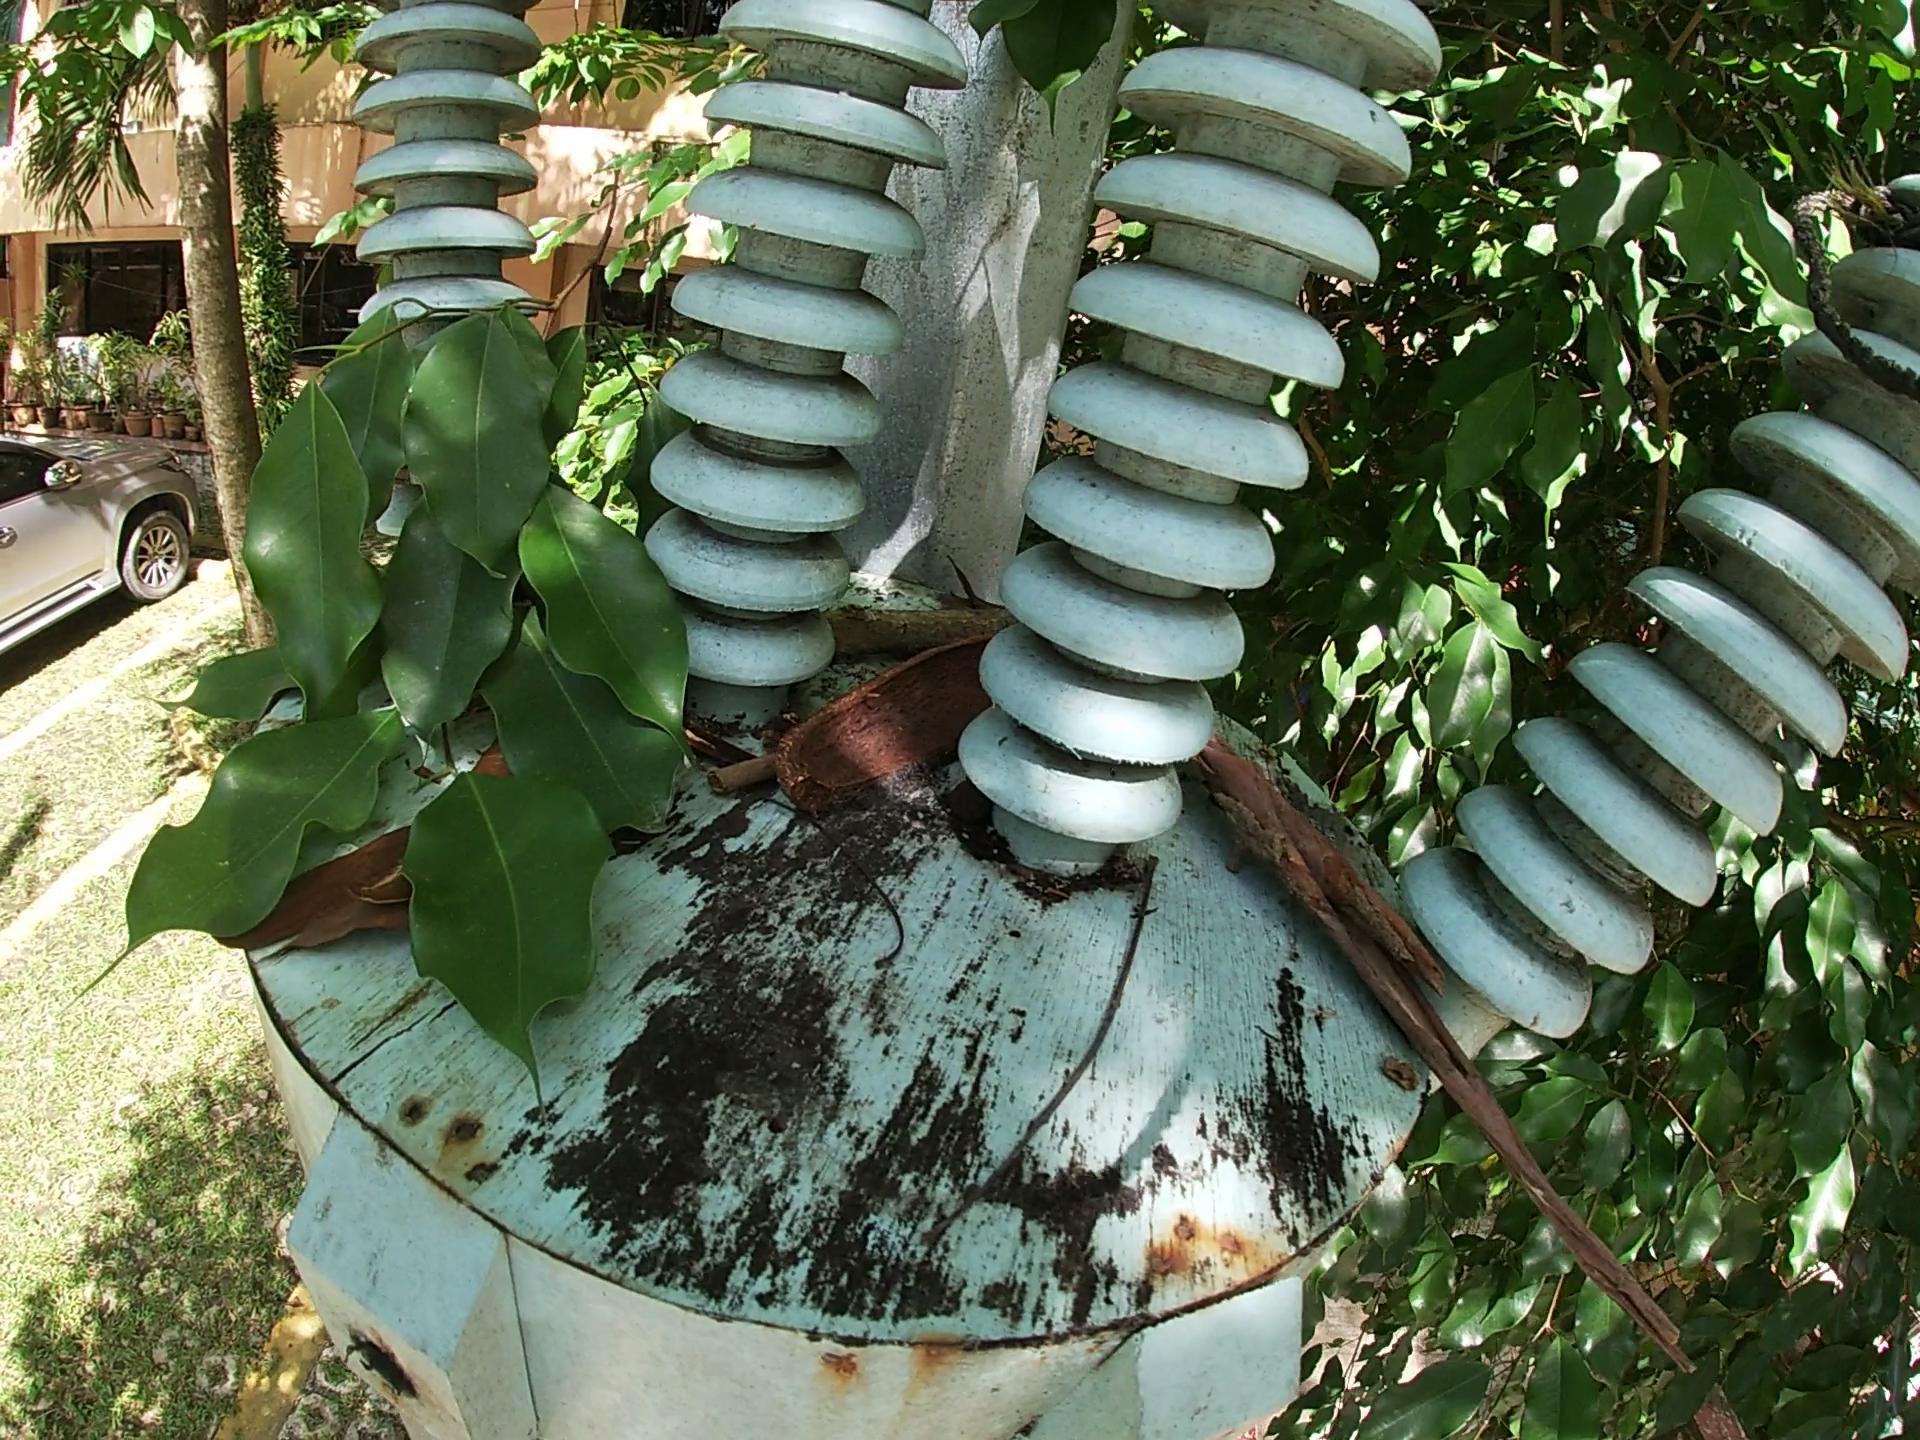branch with leaves: (147, 203, 680, 1072)
leaf: (287, 886, 437, 977), (688, 731, 739, 771)
tree branch: (1191, 718, 1743, 1392), (895, 849, 1175, 1298), (766, 799, 930, 992), (816, 601, 1030, 675), (714, 759, 785, 812)
